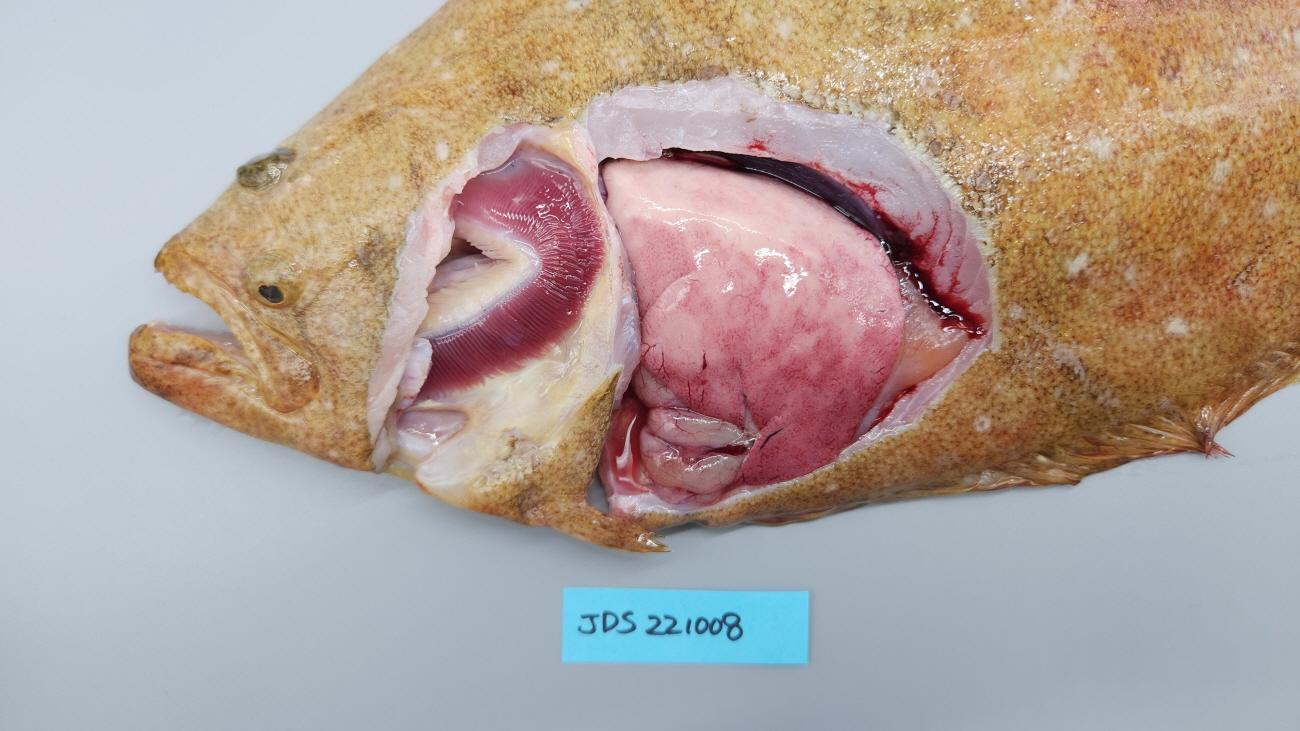VILIC: (644, 311, 900, 481)
